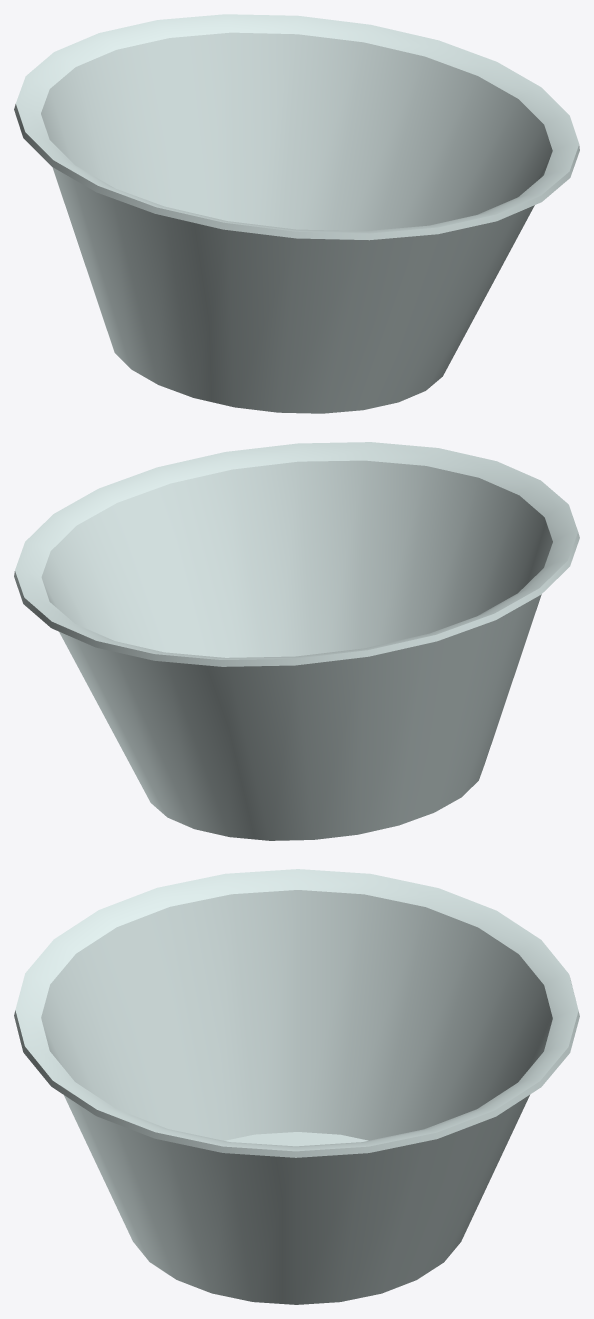
Rendered from BowlA.fbx.
3 renders of one model, top to bottom at view 1: azimuth 30°, elevation 25°; view 2: azimuth 150°, elevation 25°; view 3: azimuth 270°, elevation 25°, orthographic.
Parts seen in each view (by area): view 1: BowlA; view 2: BowlA; view 3: BowlA.
Boxes of the visible parts, x1=… form: BowlA: x1=14, y1=14, x2=579, y2=413; BowlA: x1=14, y1=442, x2=579, y2=840; BowlA: x1=14, y1=869, x2=579, y2=1304.
Size of the model in its own units: 19.6 by 9.78 by 19.67.
Materials: 1 (1 with a texture image).
